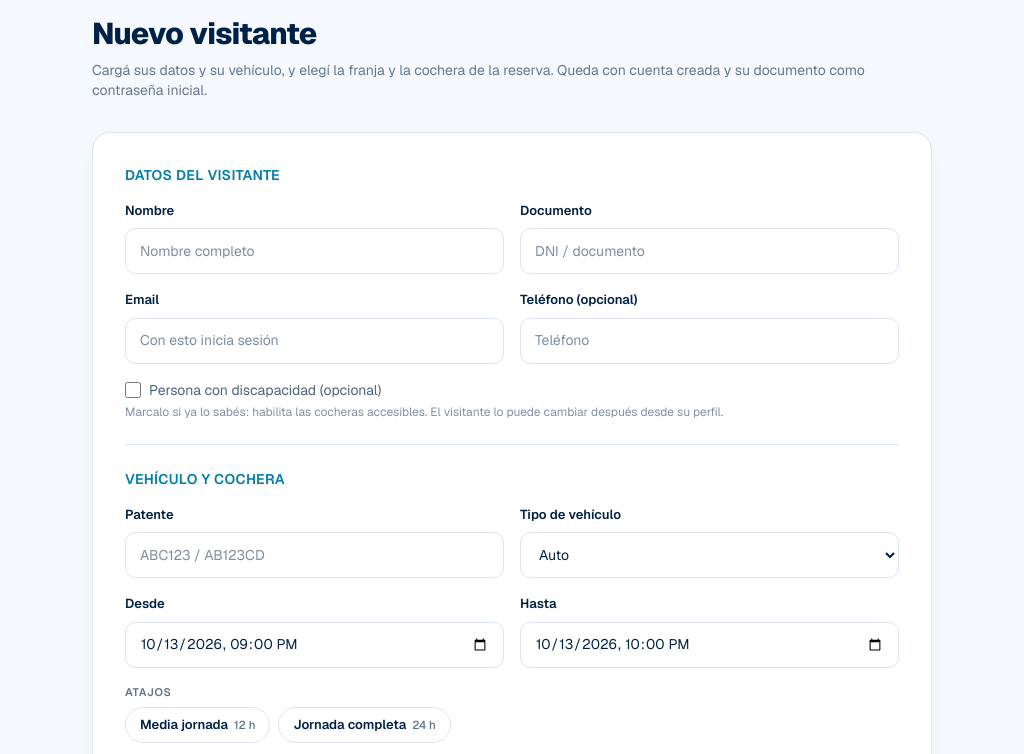
Scenario: VisitantesContent: alta en espera y errores del servidor › traduce una validación sin detalles a una indicación útil
The width and height of the screenshot is (1024, 754).
Type "Juan Perez" into the field with placeholder "Nombre completo". click: (314, 251)
box: [125, 228, 504, 274]
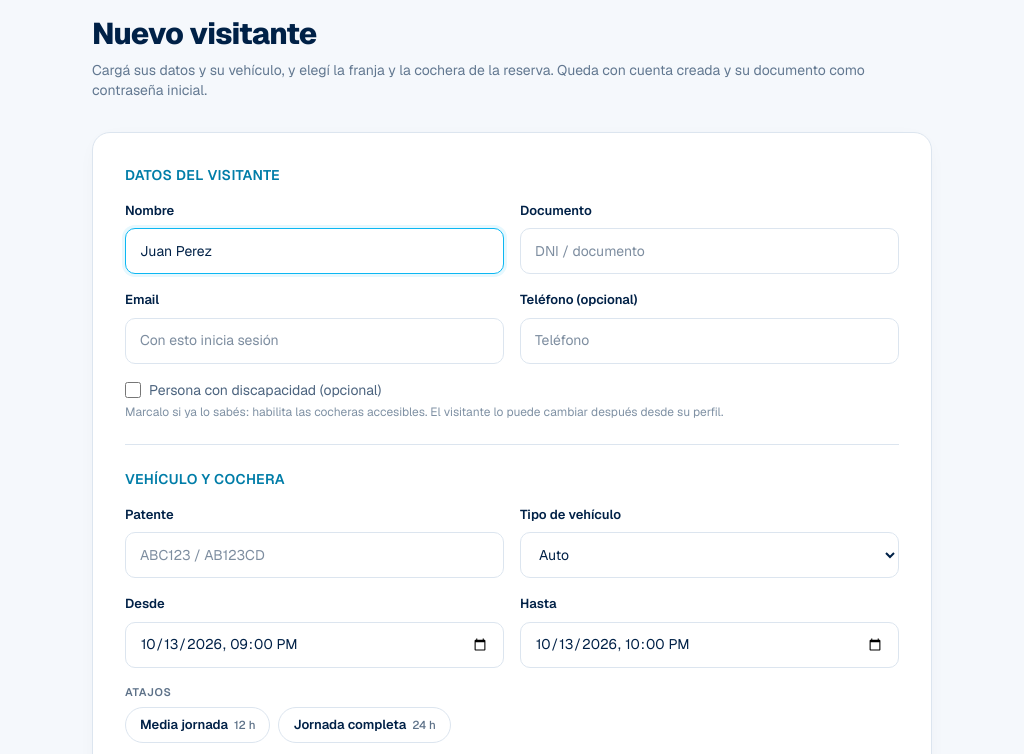
Type "30111222" into the field with placeholder "DNI / documento". click: (710, 251)
box: [520, 228, 899, 274]
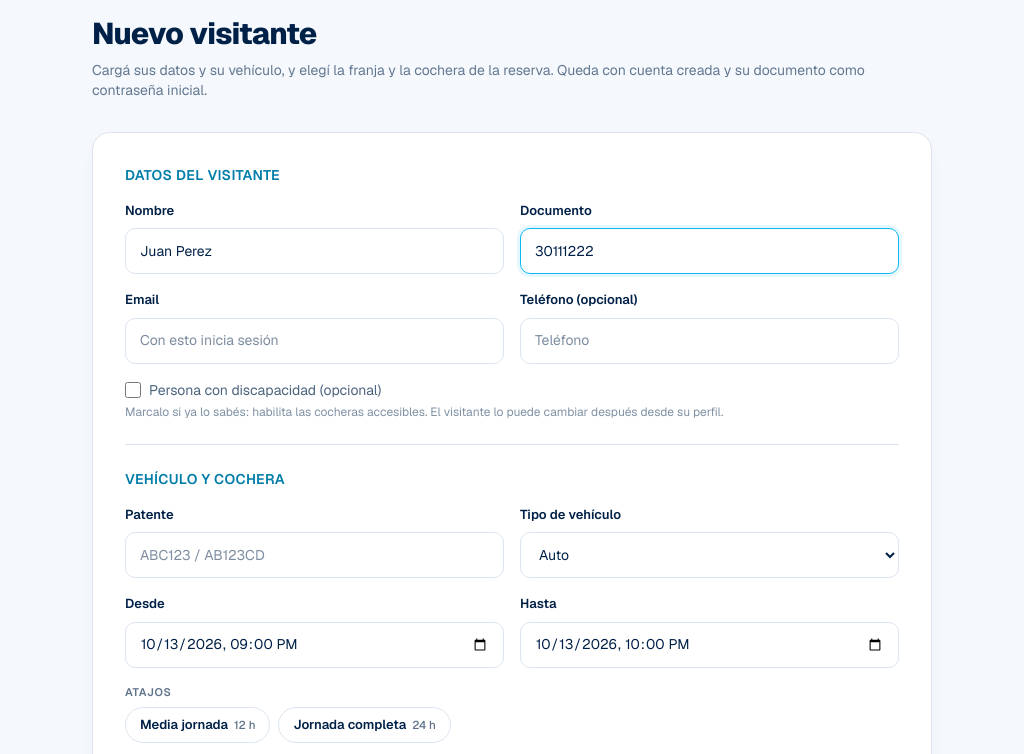
Type "juan@test.com" into the field with placeholder "Con esto inicia sesión". click: (314, 341)
box: [125, 318, 504, 364]
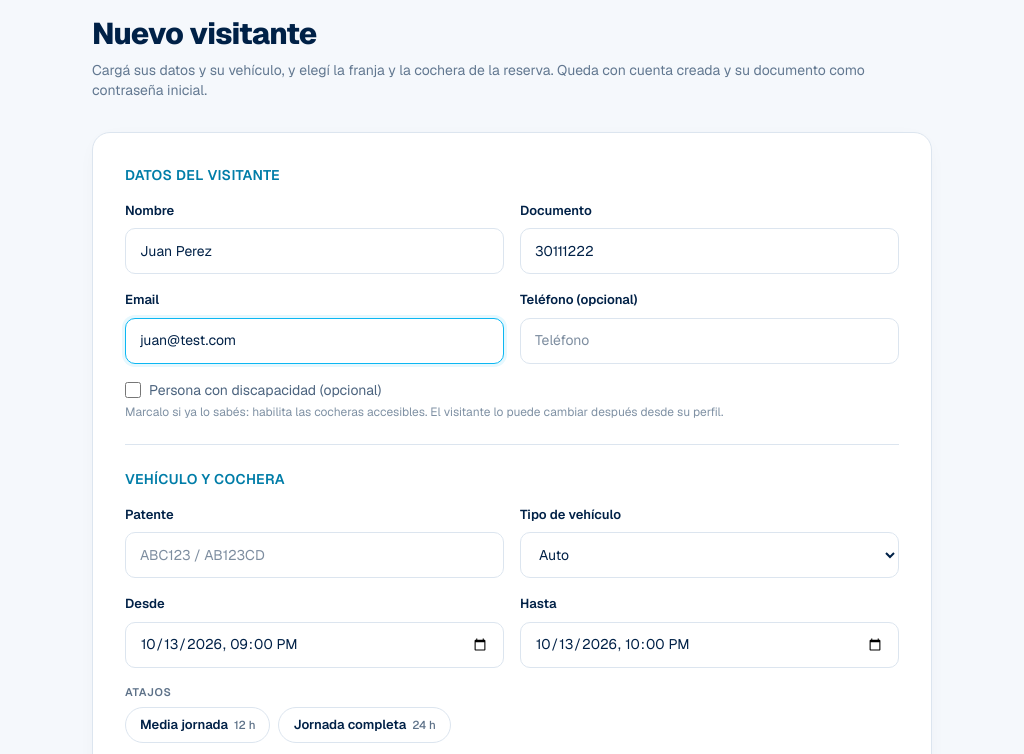
Type "ABC123" into the field with placeholder "ABC123 / AB123CD". click: (314, 555)
box: [125, 532, 504, 578]
(page scrolled)
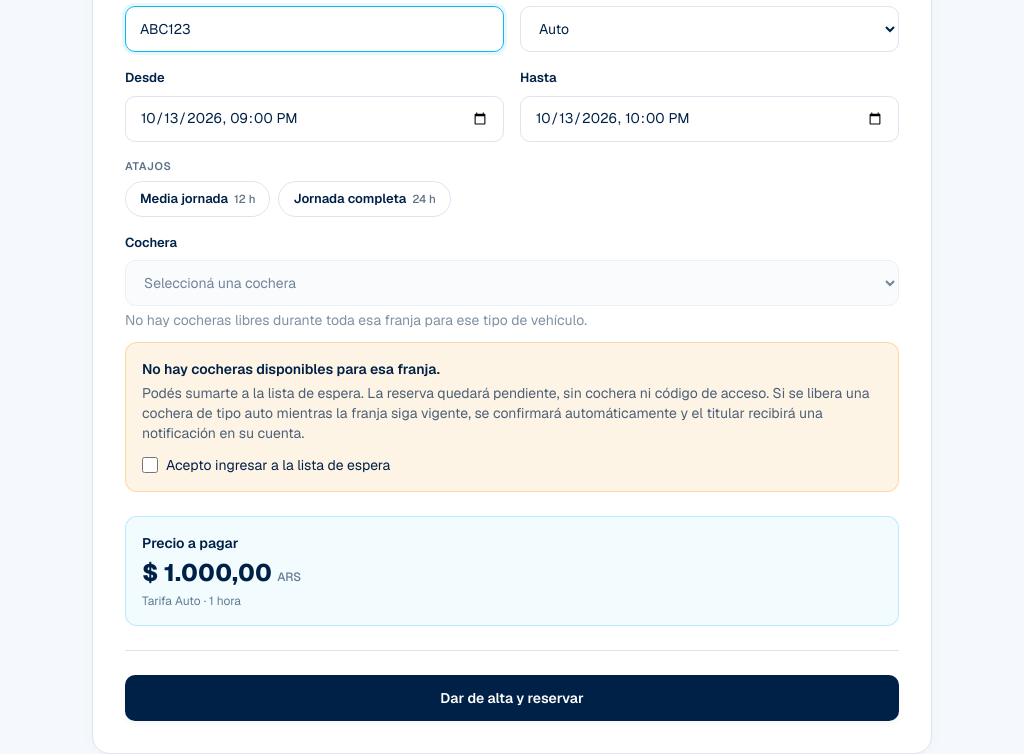
Click the checkbox labelled "Acepto ingresar a la lista de espera". click: (150, 465)
box: [142, 457, 158, 473]
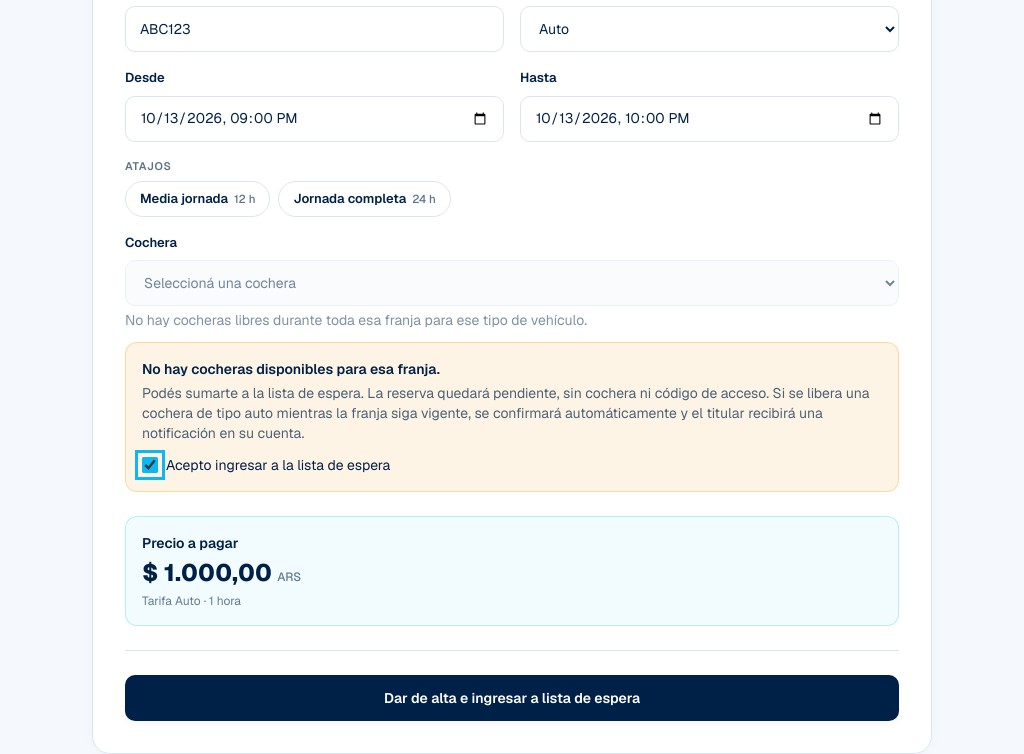
Click the button "Dar de alta e ingresar a lista de espera". click: (512, 698)
box: [125, 675, 899, 721]
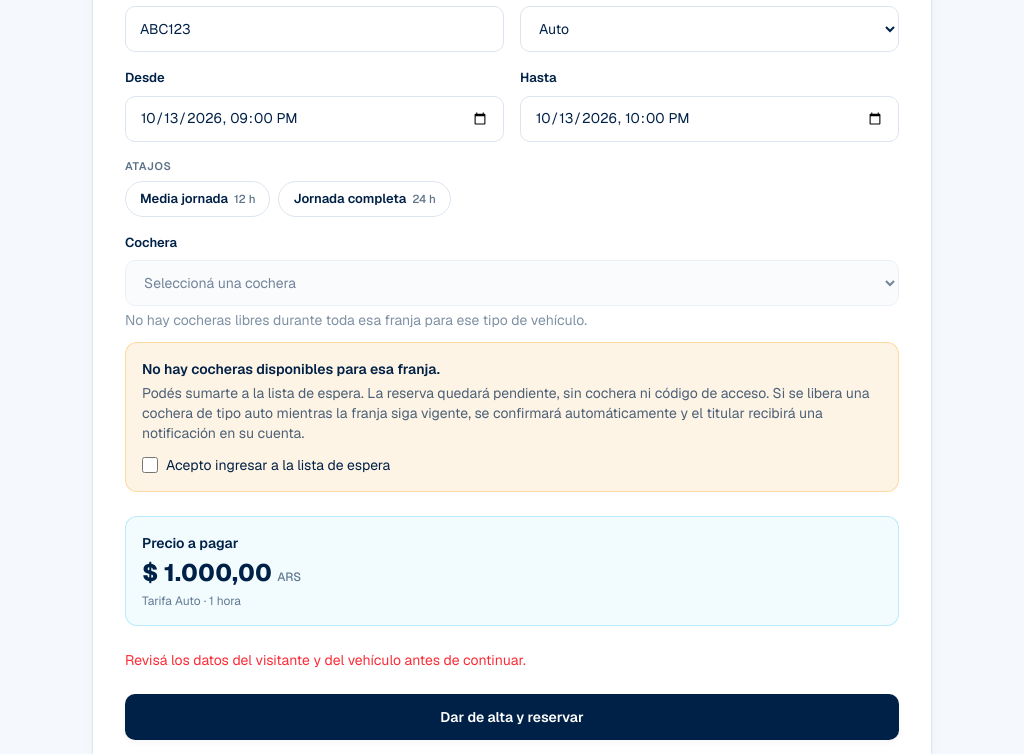
Now the message reads "Revisá los datos del visitante y del vehículo antes de continuar.", box [125, 651, 526, 669]
